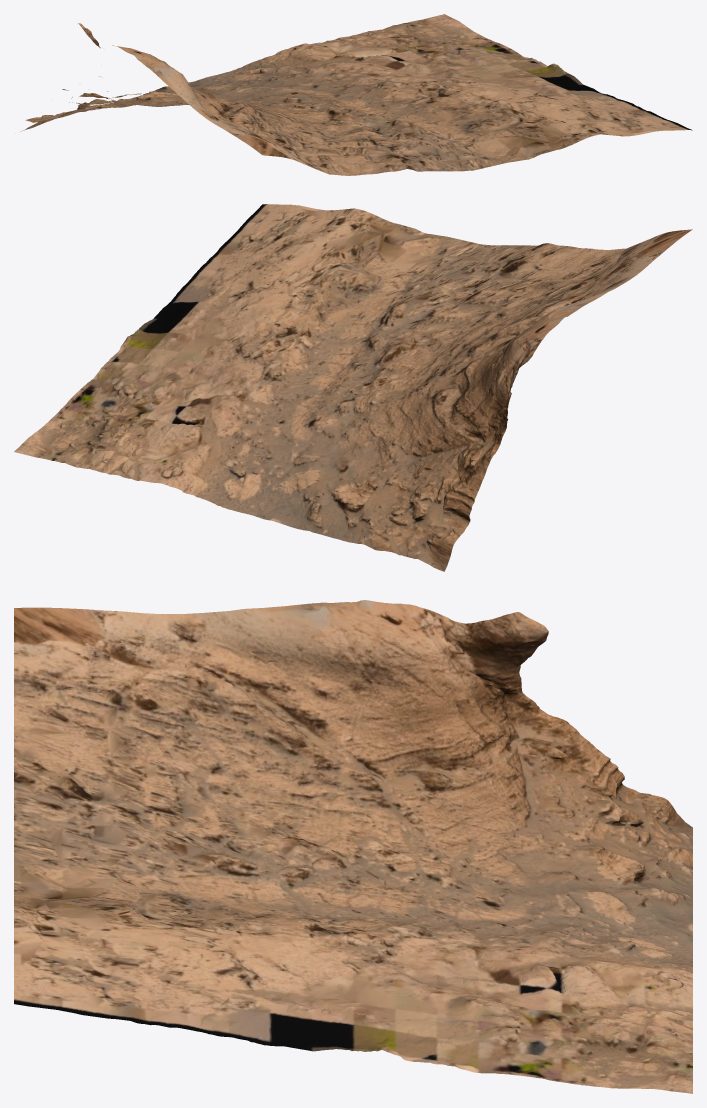
3 views of the same model, one above another, from view 1: azimuth 30°, elevation 25°; view 2: azimuth 150°, elevation 25°; view 3: azimuth 270°, elevation 25° (orthographic). The views are drawn at different scales.
Size of the model in its own units: 16.71 by 6.17 by 16.71.
Materials: 3 (3 with a texture image).
